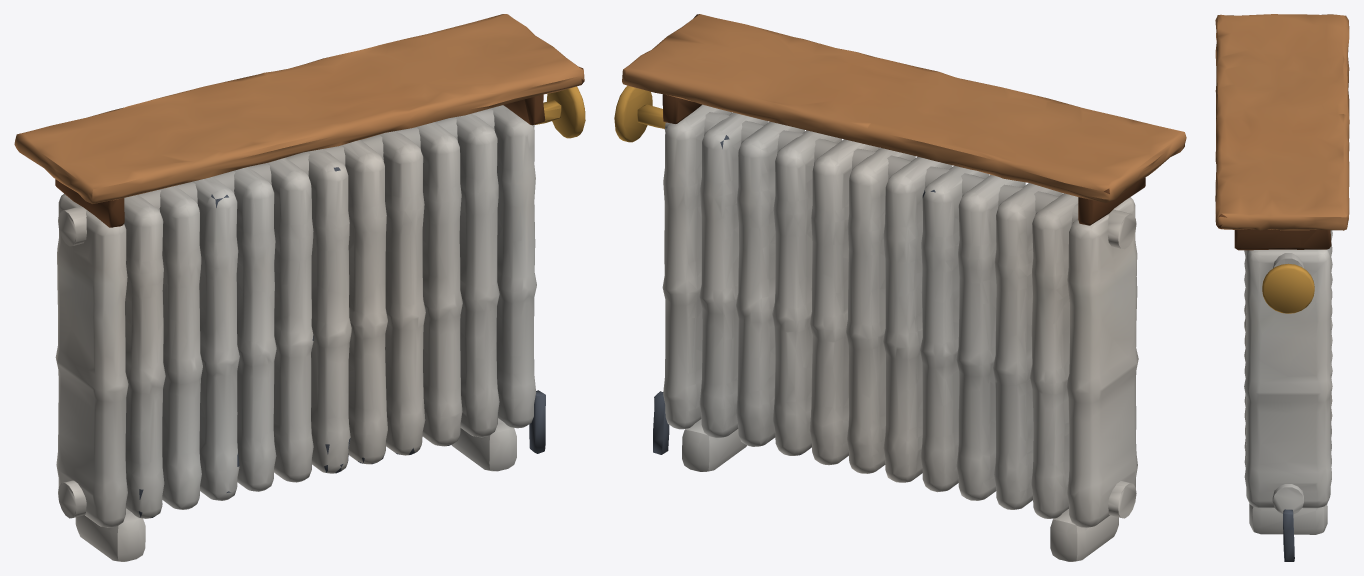
The model's file is frost_radiator.glb.
3 views of the same model, side by side, from view 1: azimuth 30°, elevation 25°; view 2: azimuth 150°, elevation 25°; view 3: azimuth 270°, elevation 25° (orthographic). The views are drawn at different scales.
Visible parts, largest first — view 1: frost_radiator; view 2: frost_radiator; view 3: frost_radiator.
Part boxes in pixels (x1,y1,x2,y2): frost_radiator: (14, 14, 585, 561); frost_radiator: (614, 14, 1186, 561); frost_radiator: (1215, 14, 1349, 561).
Bounding box in the file's own units: 42.27 × 31.96 × 11.16.
